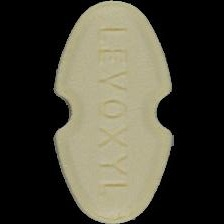60793-854: (0, 0, 224, 224)
